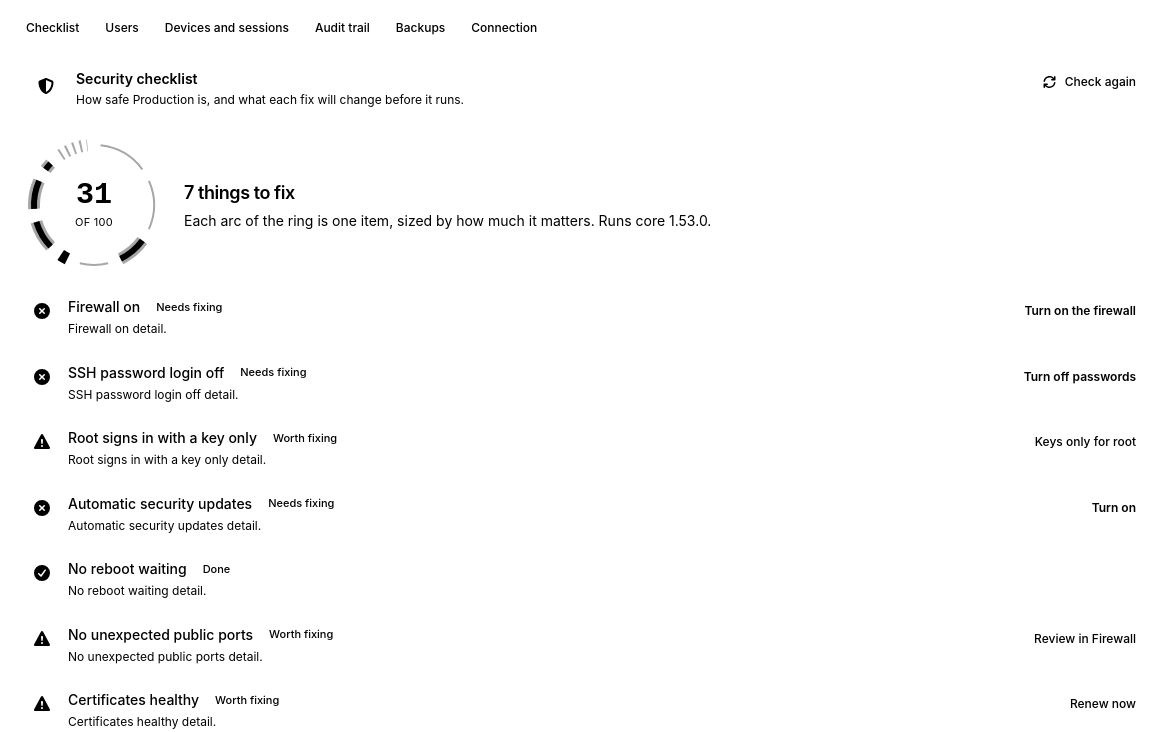
Test: SecurityPanel › gives an Owner the checklist, users, devices and sessions, the audit trail and backups, starting with the checklist
The image size is (1164, 732).
Step 1. Click the tab "Users" → (122, 28), box x1=93 y1=14 x2=151 y2=42
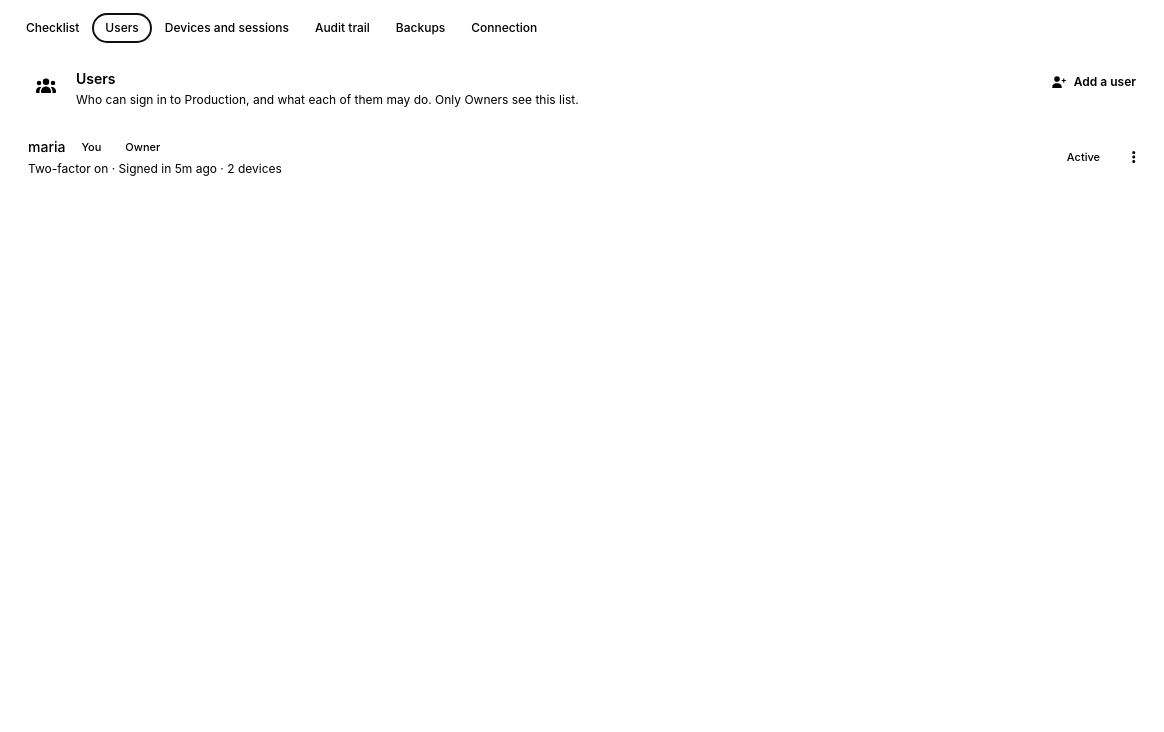
Now the list item "maria" is shown, box x1=28 y1=138 x2=1148 y2=176
Step 2. Click the tab "Backups" → (421, 28), box x1=384 y1=14 x2=457 y2=42
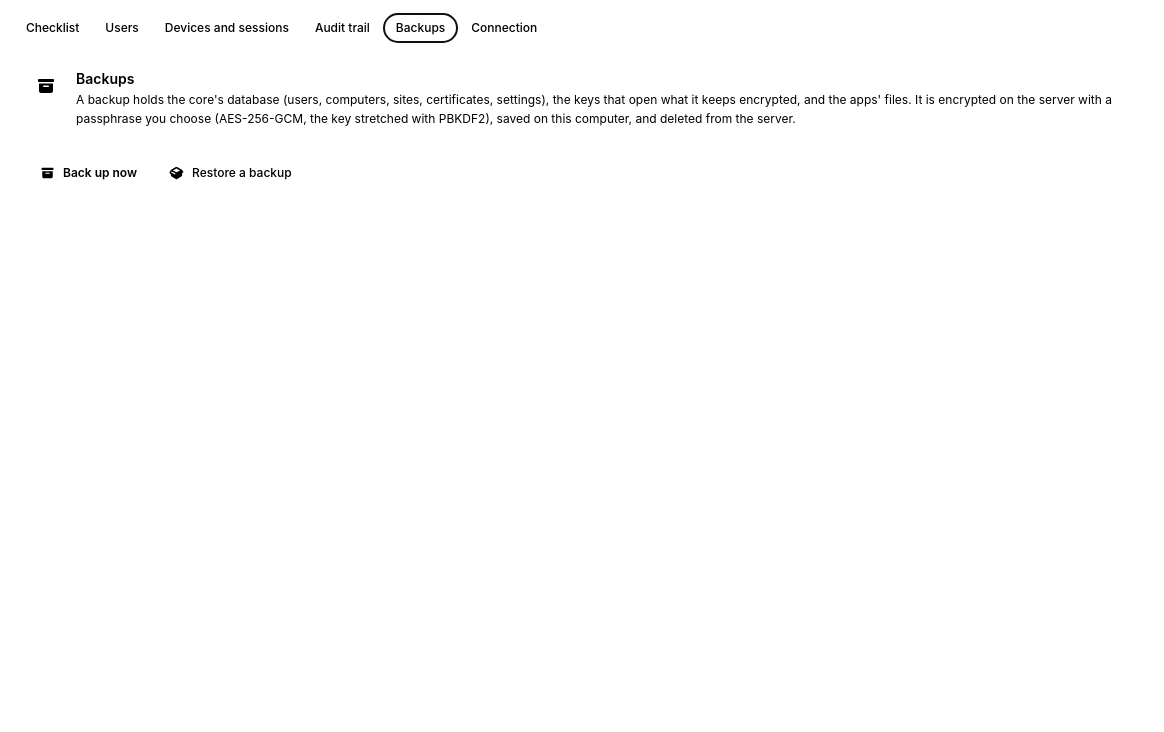
Now the button "Back up now" is shown, box x1=28 y1=158 x2=149 y2=186
Step 3. Click the tab "Audit trail" → (342, 28), box x1=303 y1=14 x2=382 y2=42
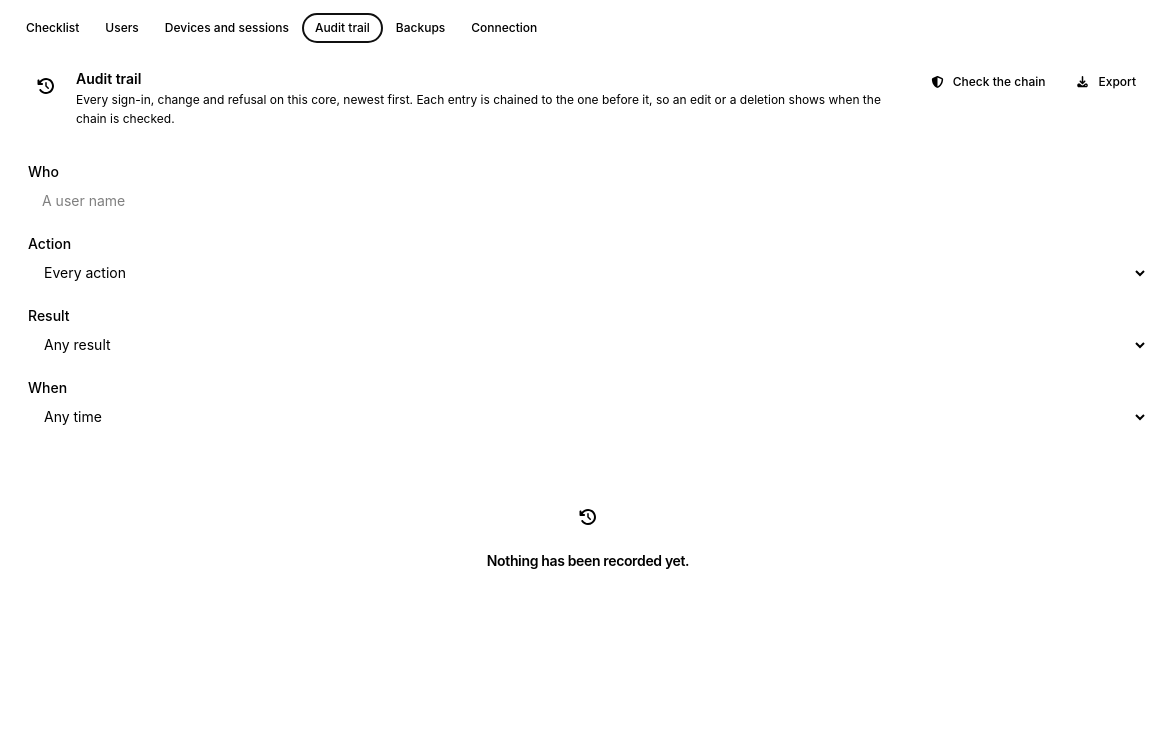
Now the text "Nothing has been recorded yet." is shown, box x1=487 y1=550 x2=689 y2=570
